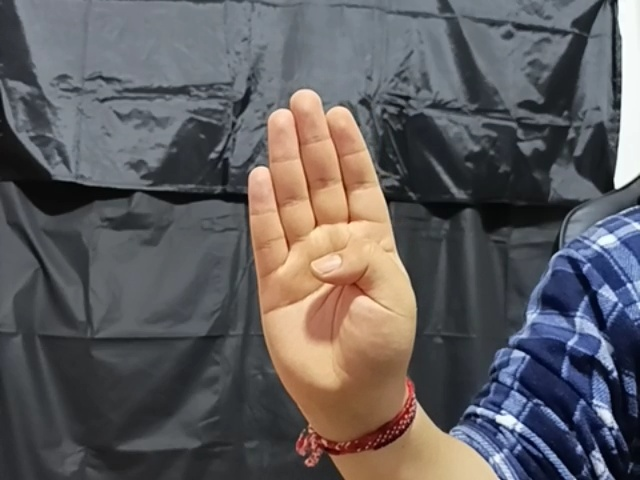B: (236, 86, 418, 393)
